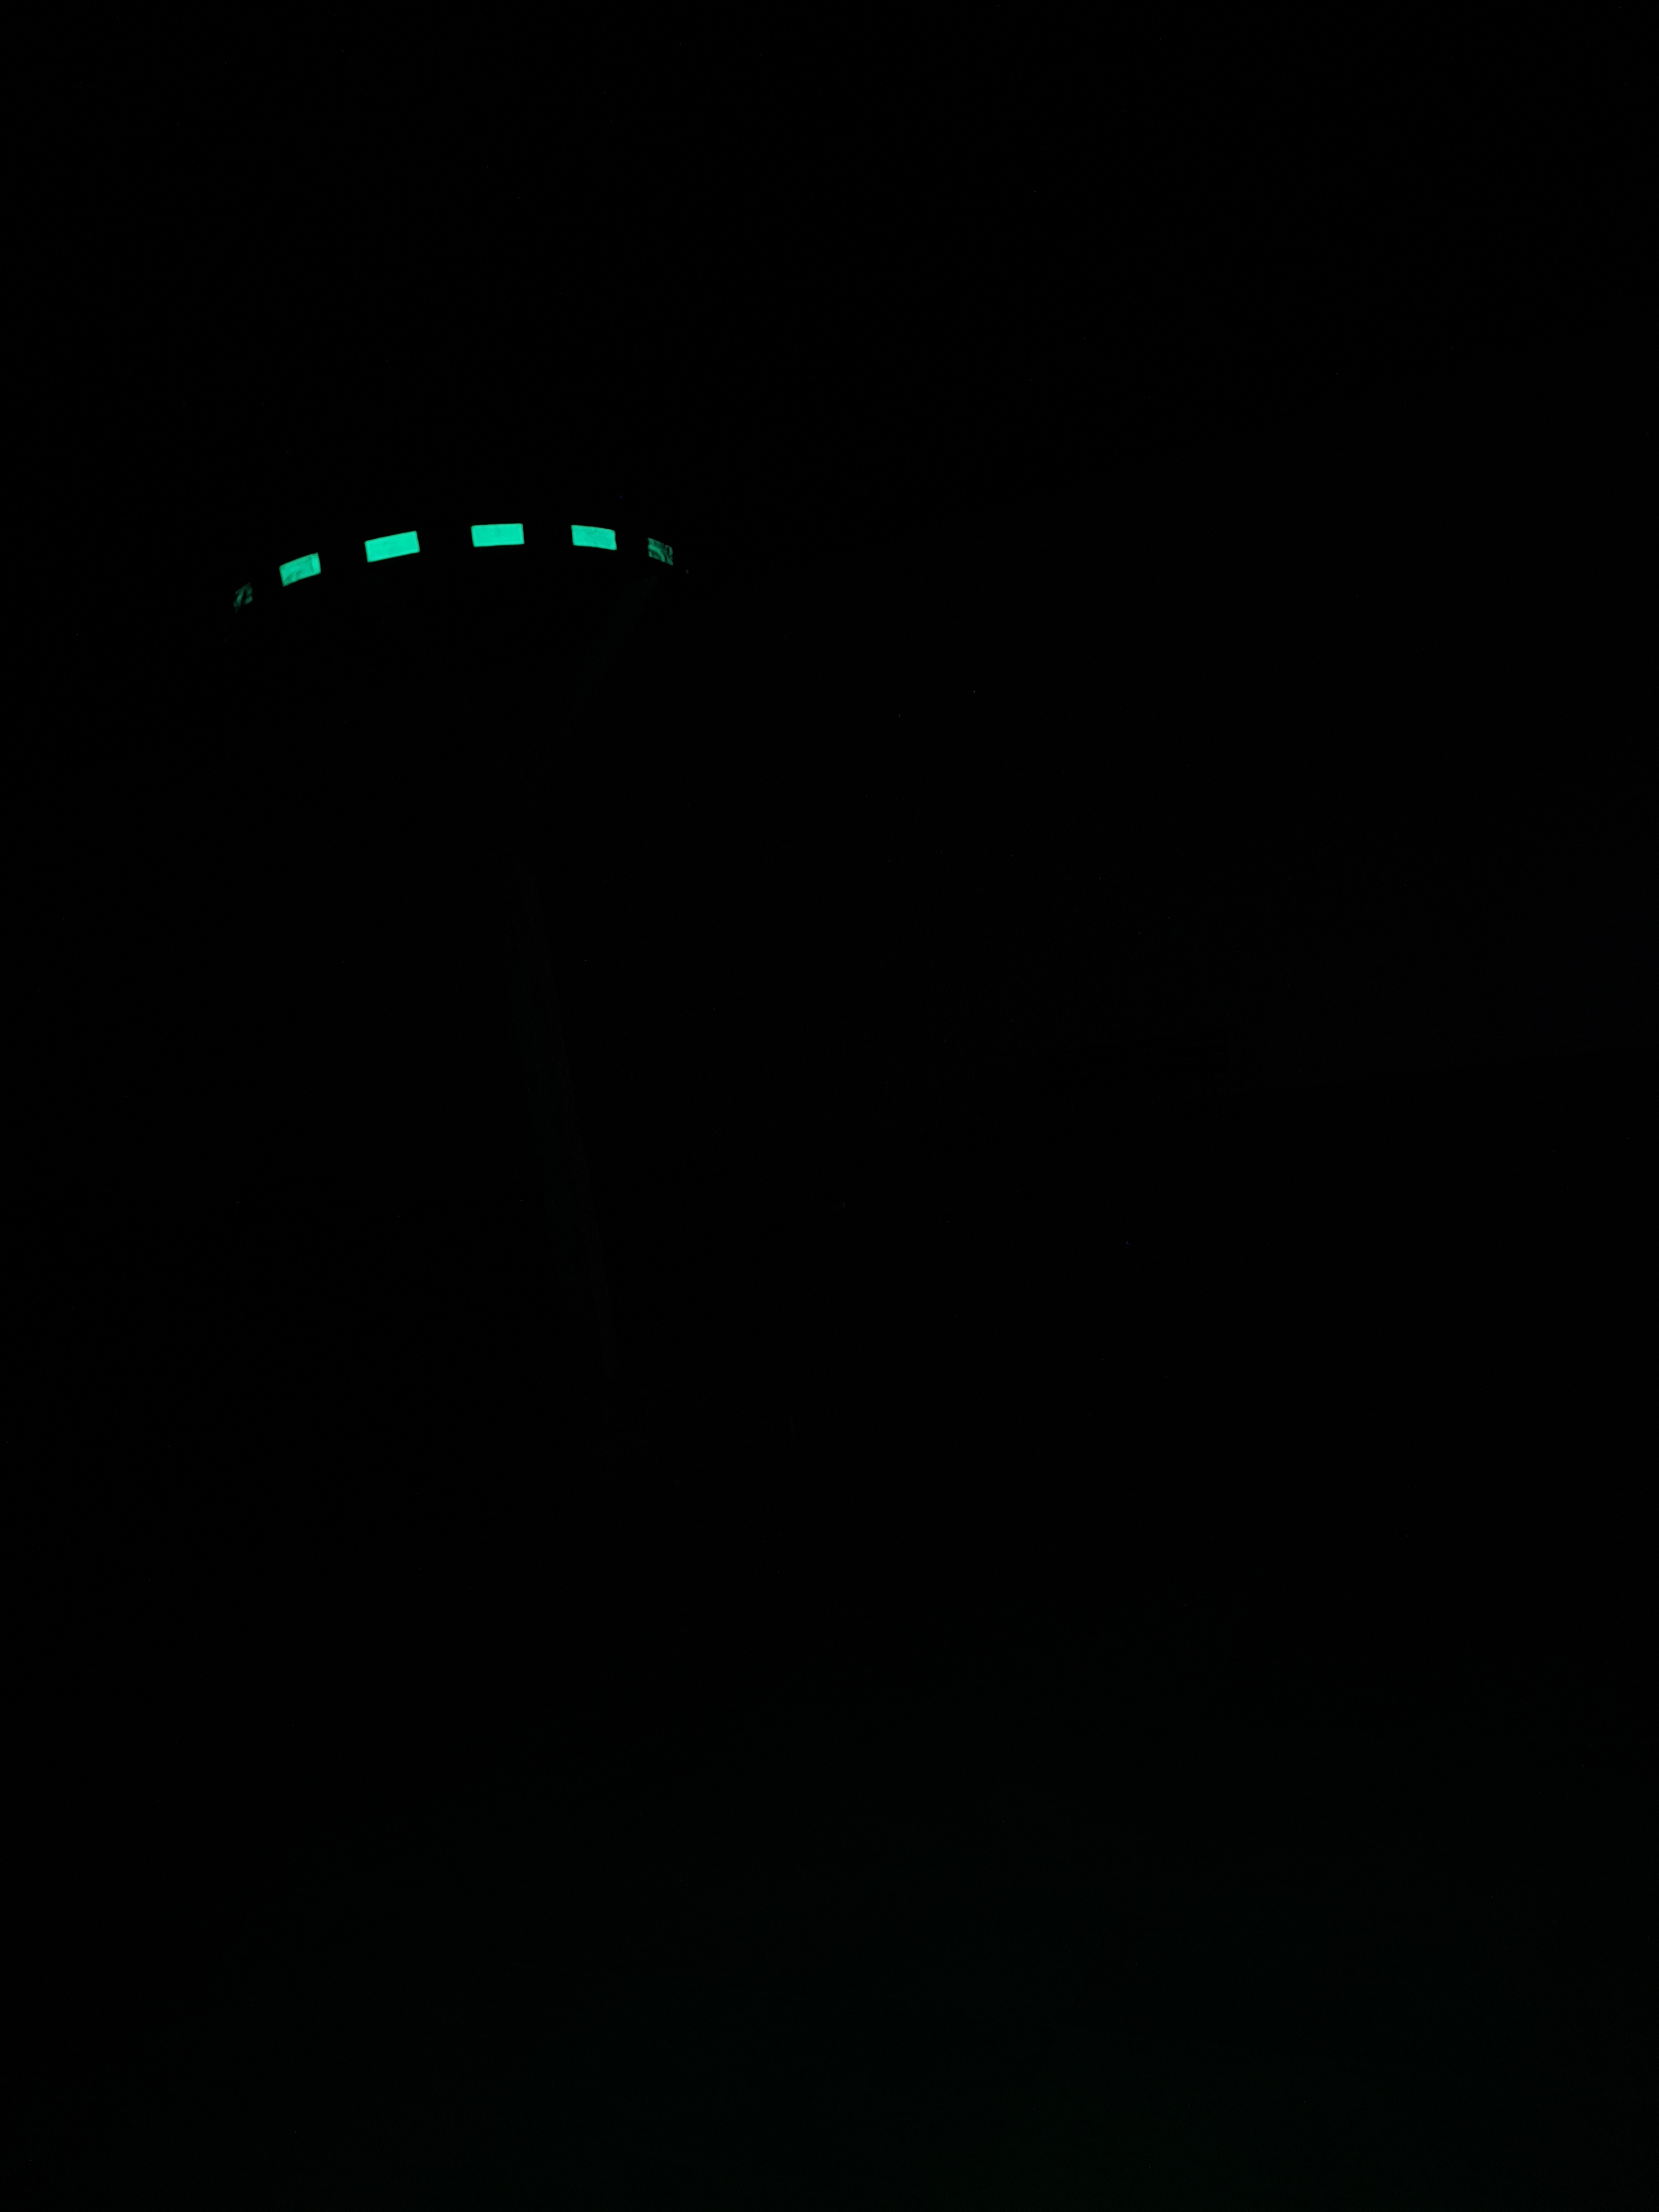hoop: (237, 521, 678, 608)
